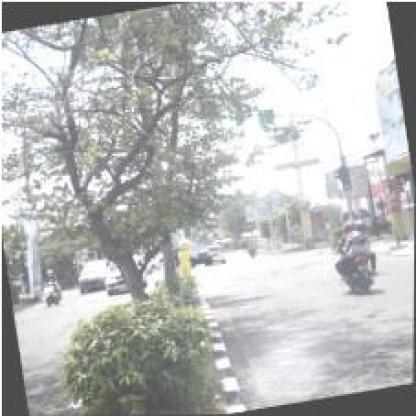green: (338, 165, 351, 191)
